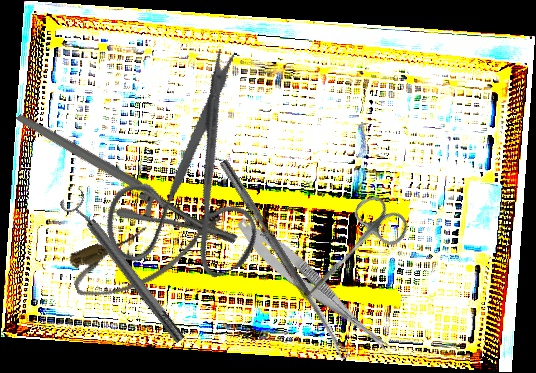Cannula: (63, 199, 233, 308)
Fixation Ring: (57, 185, 192, 351)
Iris Scissors: (57, 43, 316, 311), (286, 188, 415, 320)
Micro Scissor: (228, 211, 406, 363)
Needle Holder: (15, 59, 240, 297)
Surgical Spoon: (218, 158, 350, 362)
